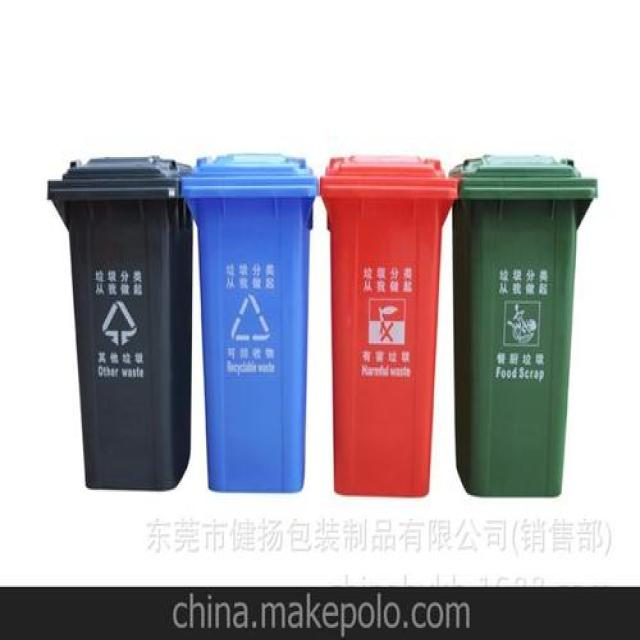garbage_bin: (449, 155, 596, 497), (46, 155, 192, 488), (319, 154, 457, 496), (178, 154, 316, 492)
